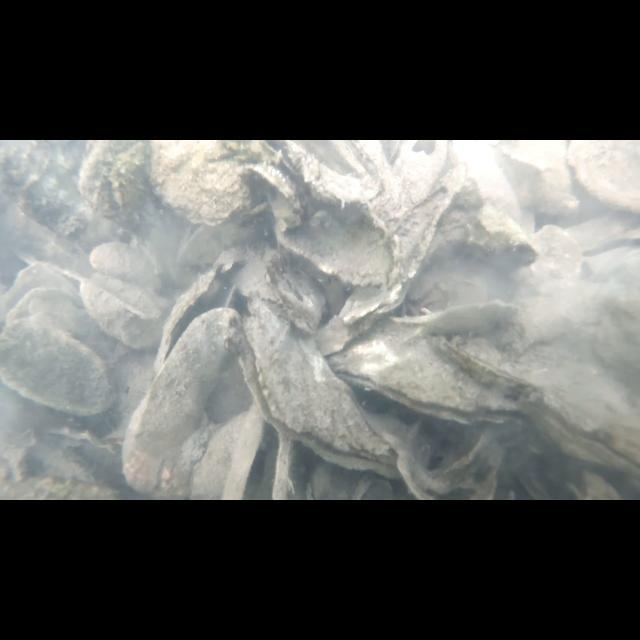Oyster-Closed: (122, 308, 242, 492), (0, 316, 114, 414), (512, 224, 584, 344), (78, 274, 174, 350), (438, 334, 540, 400), (88, 242, 160, 290)
Oyster-Open: (224, 283, 400, 477), (327, 325, 526, 427), (525, 393, 639, 479), (151, 262, 237, 368), (220, 398, 292, 499), (0, 261, 82, 329)
